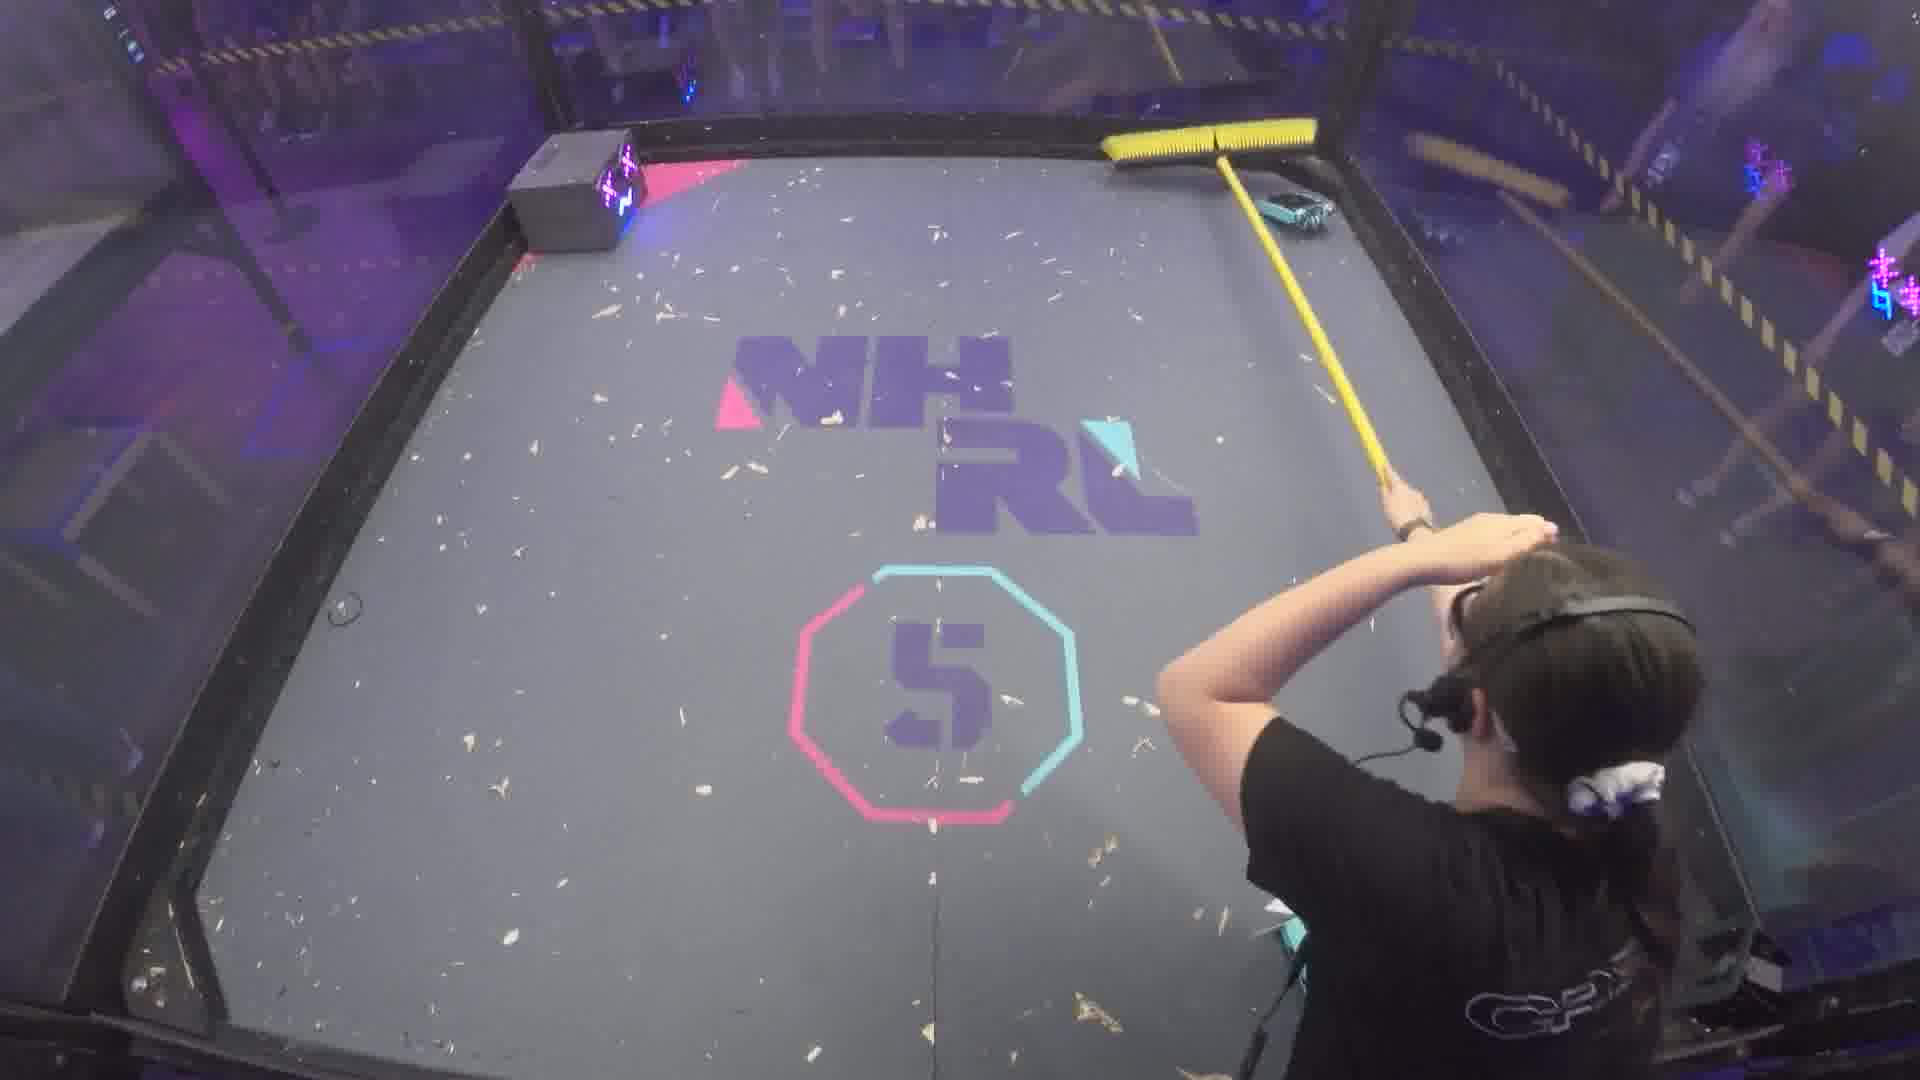combatbot: (1257, 189, 1325, 235)
debris: (319, 592, 365, 630)
housebot: (513, 124, 646, 258)
